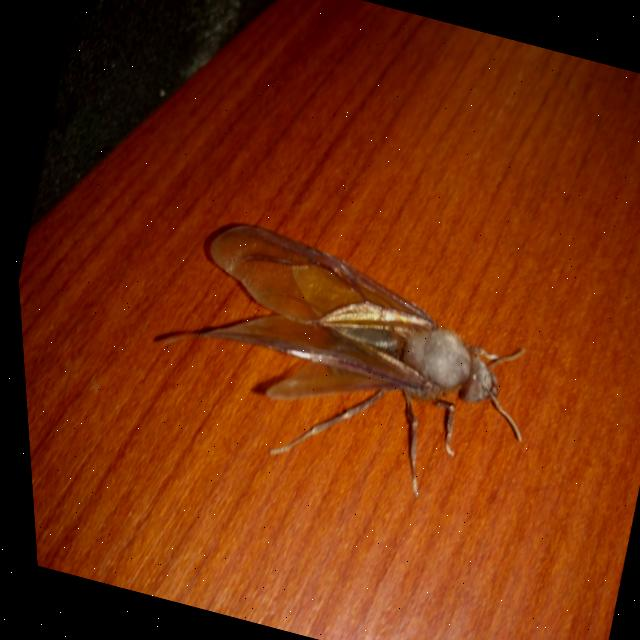Alive-Female-Alate: (127, 206, 557, 523)
